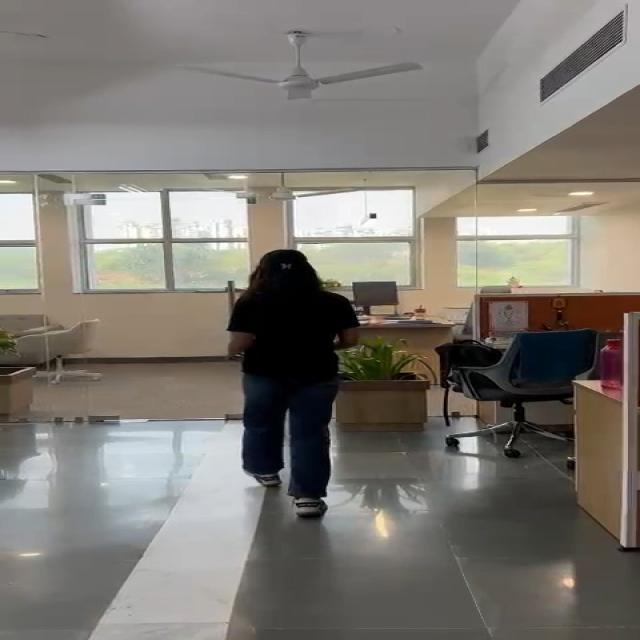floor: (0, 415, 247, 637), (248, 515, 640, 640)
furniture: (454, 337, 601, 473), (326, 341, 435, 434), (0, 304, 121, 378), (348, 278, 423, 331)
moving_object: (208, 247, 358, 510)
wall: (0, 166, 640, 263)
